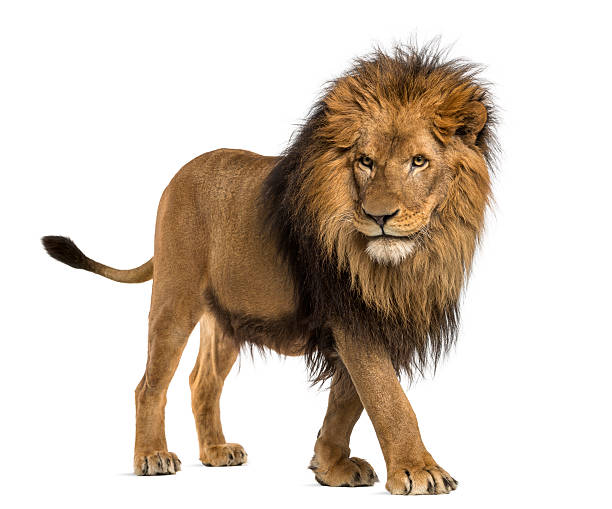lion: (259, 26, 504, 384)
